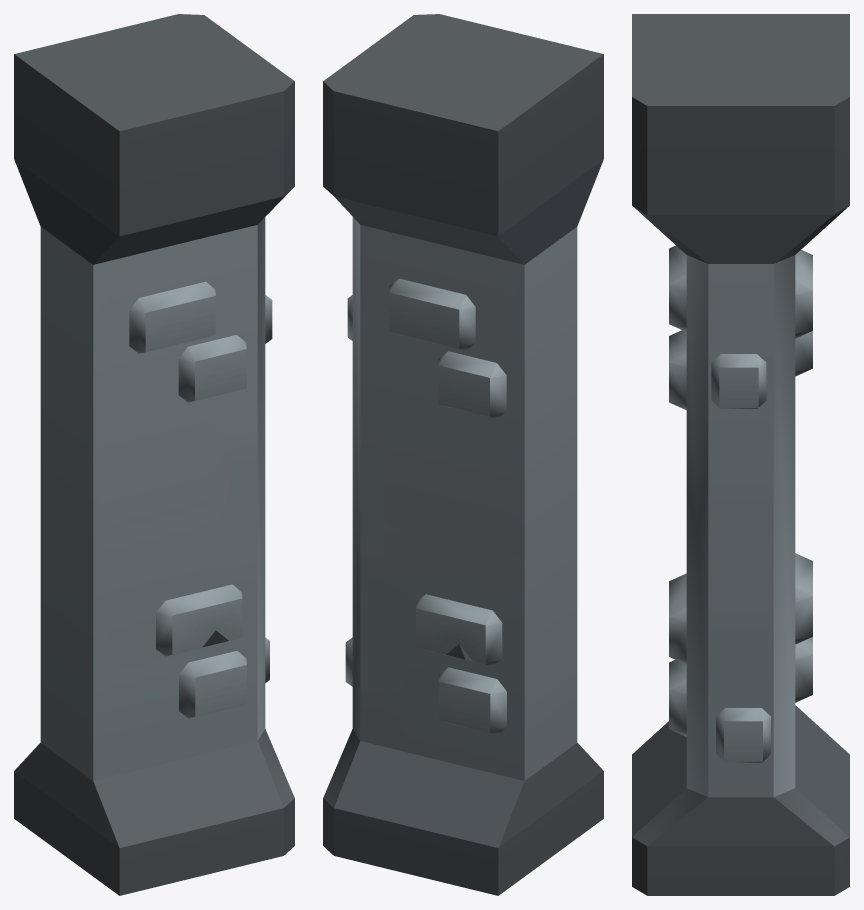
Rendered from wall_endcap.glb.
3 renders of one model, left to right at view 1: azimuth 30°, elevation 25°; view 2: azimuth 150°, elevation 25°; view 3: azimuth 270°, elevation 25°, orthographic. The views are drawn at different scales.
Visible parts, largest first — view 1: wall_endcap; view 2: wall_endcap; view 3: wall_endcap.
Part boxes in pixels (x1,y1,x2,y2): wall_endcap: [14, 14, 294, 895]; wall_endcap: [323, 14, 603, 895]; wall_endcap: [632, 14, 849, 895].
Bounding box in the file's own units: 1.07 × 4 × 1.
Materials: 1 (1 with a texture image).
